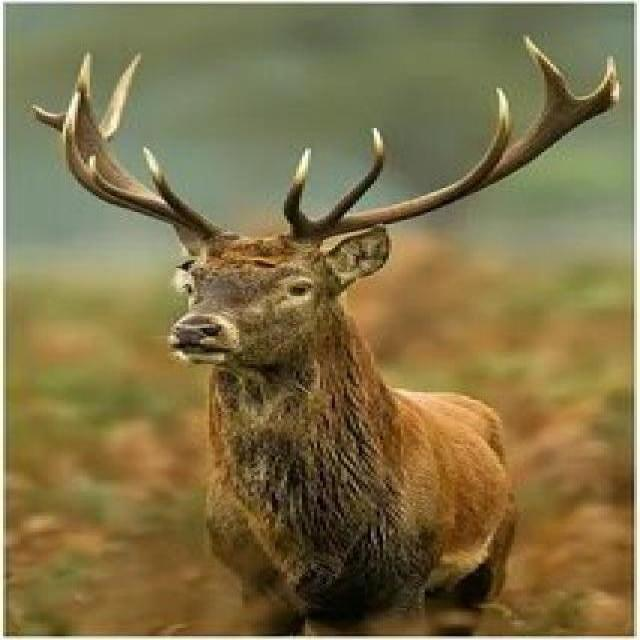deer: (0, 37, 634, 604)
